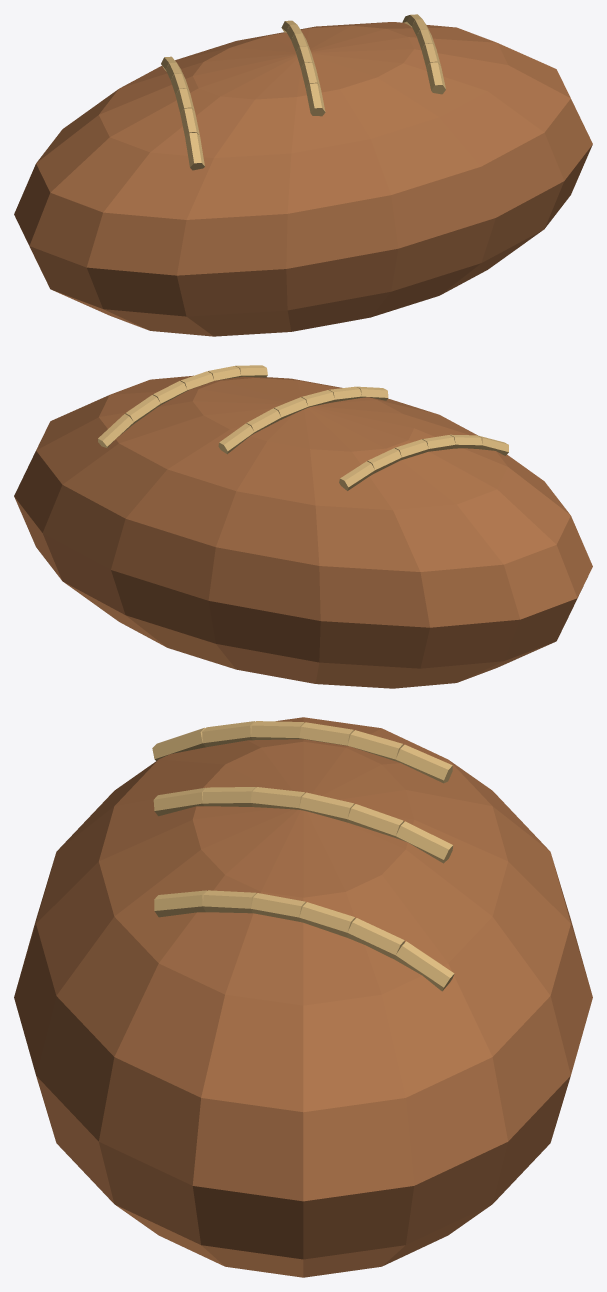
Rendered from AE_Item_HearthLoaf.fbx.
3 renders of one model, top to bottom at view 1: azimuth 30°, elevation 25°; view 2: azimuth 150°, elevation 25°; view 3: azimuth 270°, elevation 25°, orthographic. The views are drawn at different scales.
Visible parts, largest first — view 1: AE_Item_HearthLoaf; view 2: AE_Item_HearthLoaf; view 3: AE_Item_HearthLoaf.
Part boxes in pixels (x1,y1,x2,y2): AE_Item_HearthLoaf: (14,14,592,336); AE_Item_HearthLoaf: (14,365,592,688); AE_Item_HearthLoaf: (14,717,592,1277).
Bounding box in the file's own units: 0.5 × 0.226 × 0.3.
